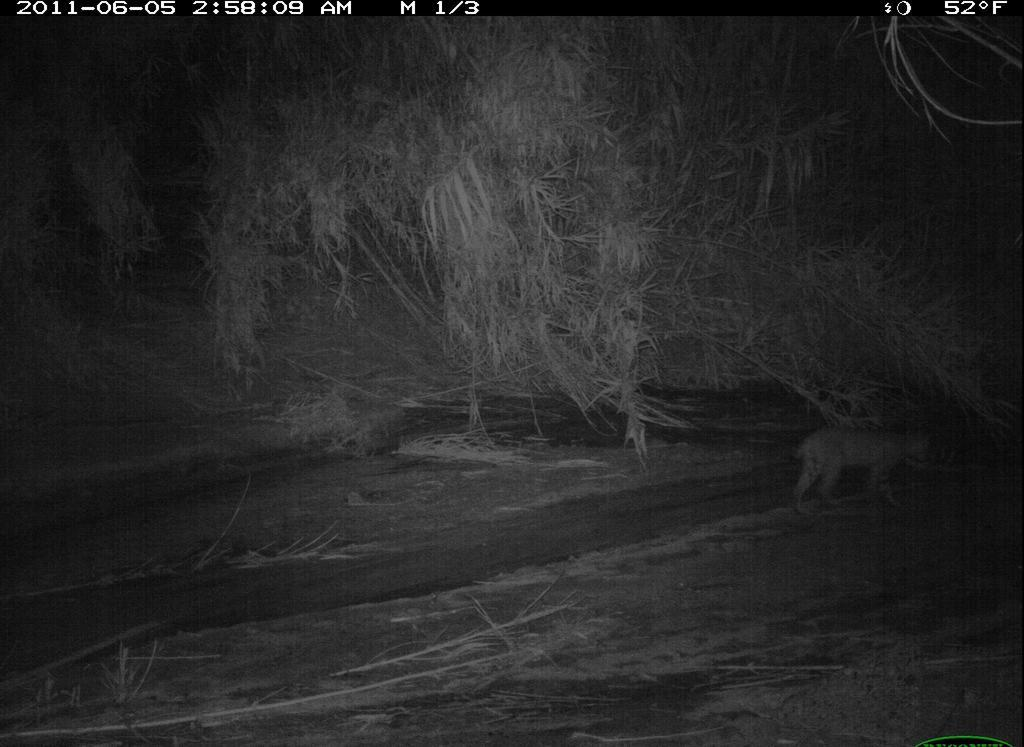bobcat: (777, 415, 948, 528)
